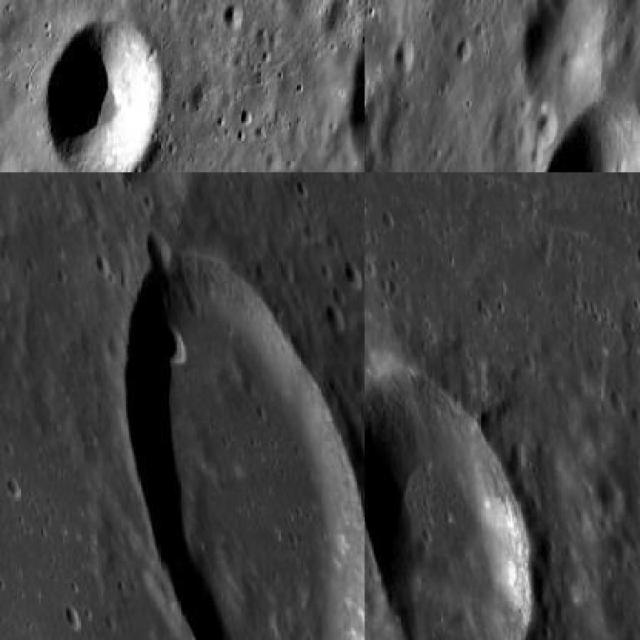crater: (123, 247, 363, 638), (365, 368, 532, 638), (46, 18, 165, 171), (520, 0, 608, 122), (530, 101, 638, 170), (349, 44, 363, 170), (146, 230, 169, 272)
